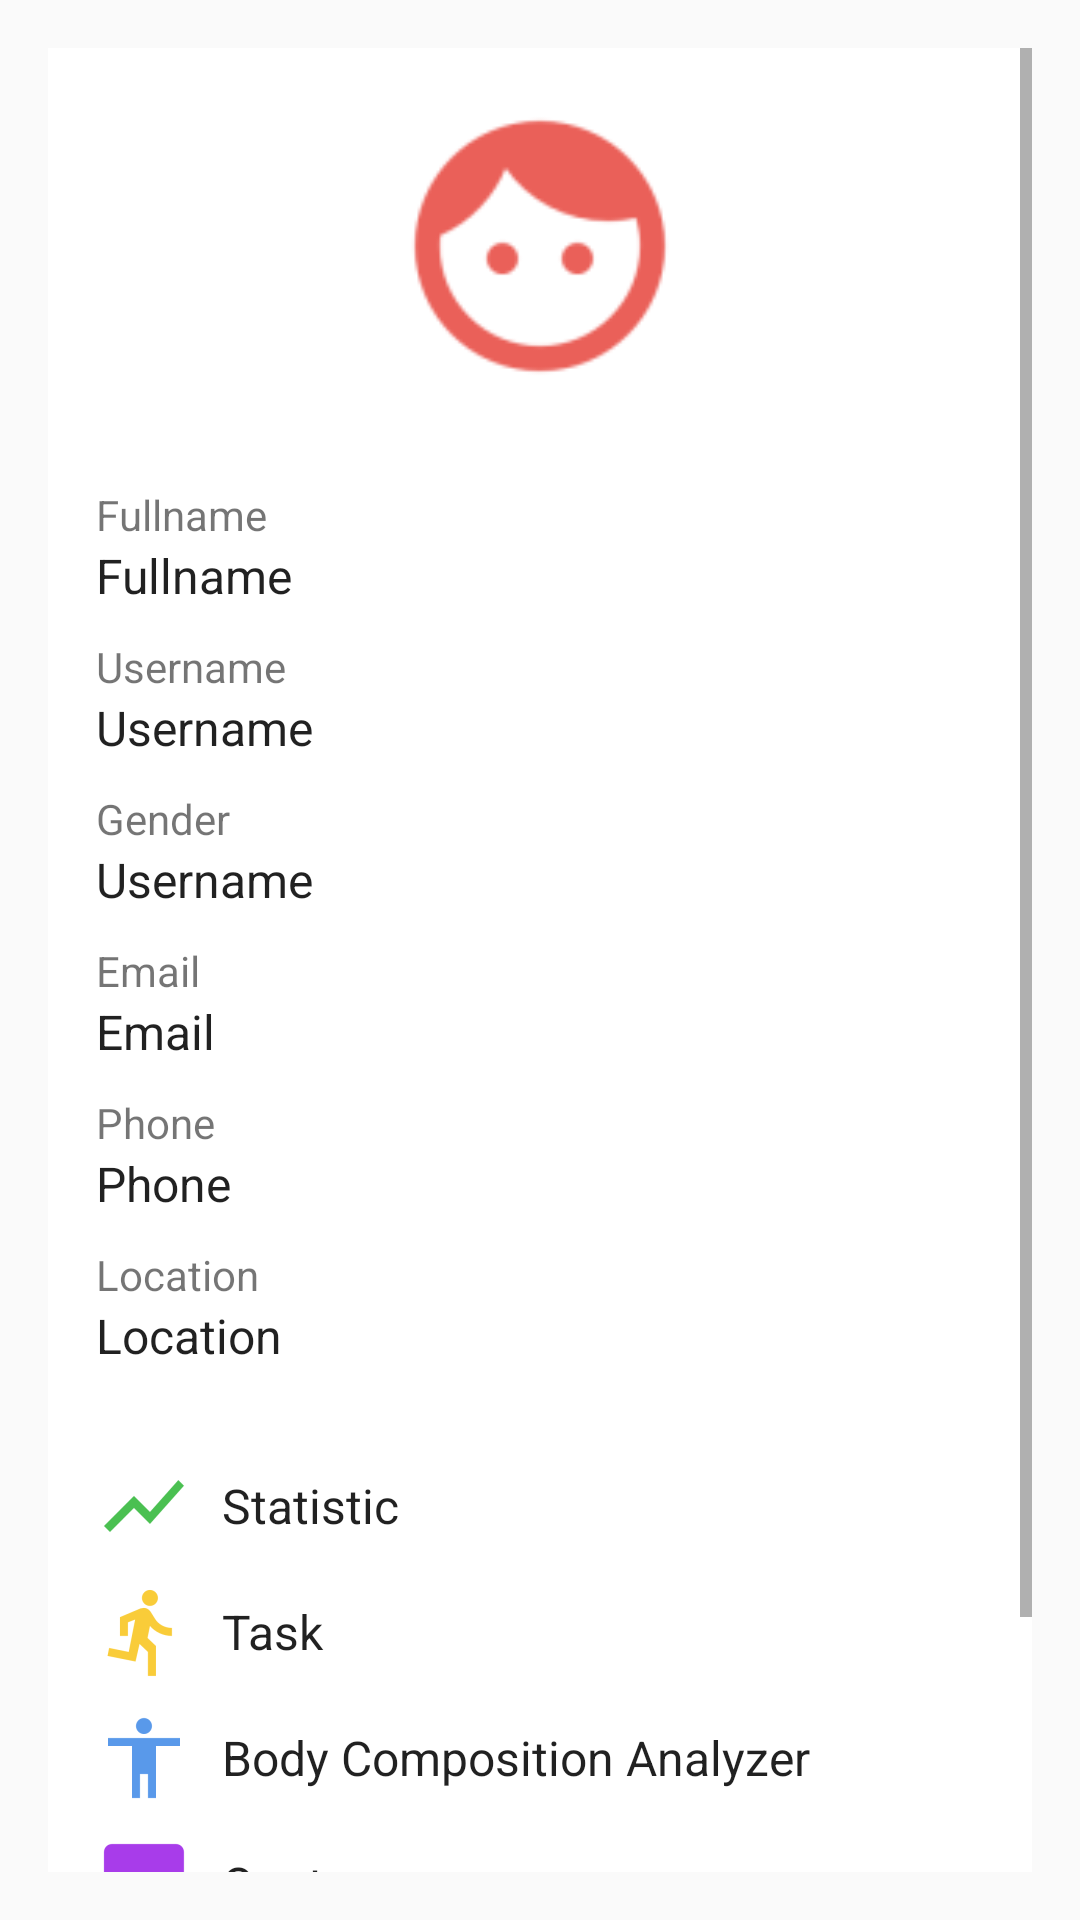

Screen size 1080 x 1920. Icon name, then its center in pixels as (x=x, y=y):
face: (x=540, y=246)
